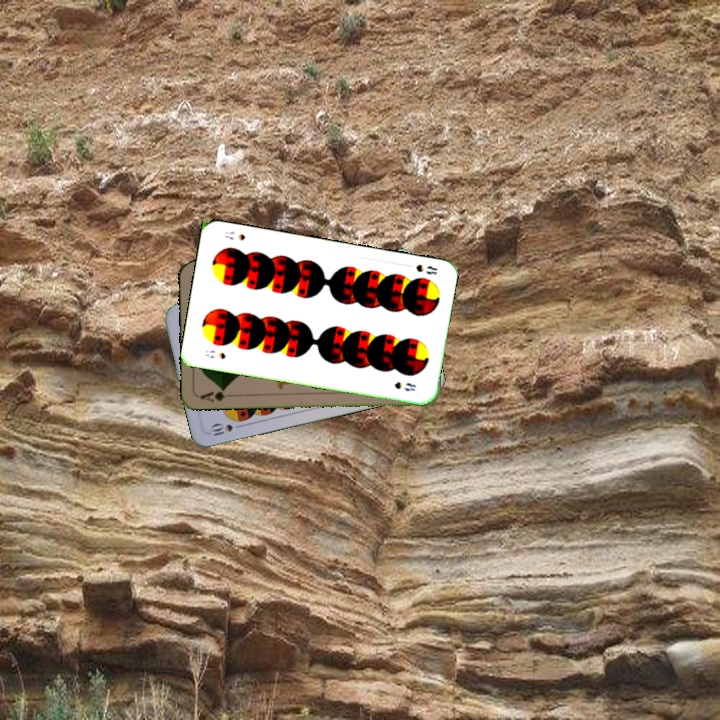GA: (197, 384, 236, 404)
S10: (206, 420, 235, 439)
S8: (412, 260, 440, 277), (201, 346, 228, 361)
